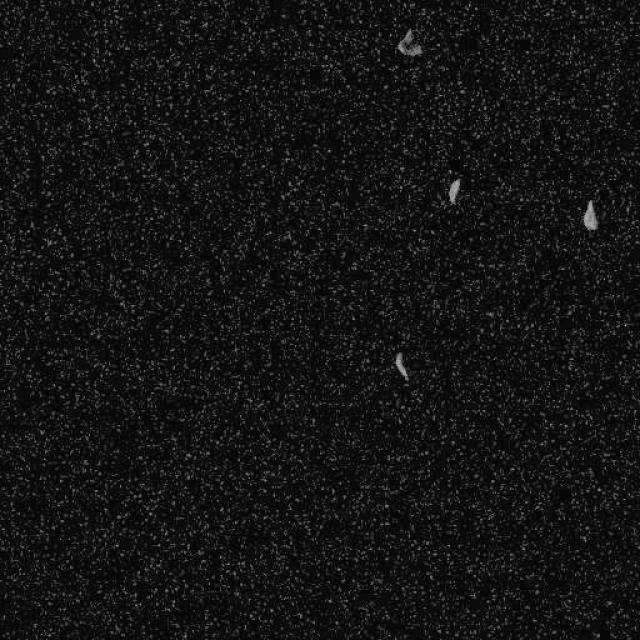D2: (397, 27, 422, 58), (581, 199, 599, 230), (392, 350, 410, 381), (446, 176, 460, 204)
